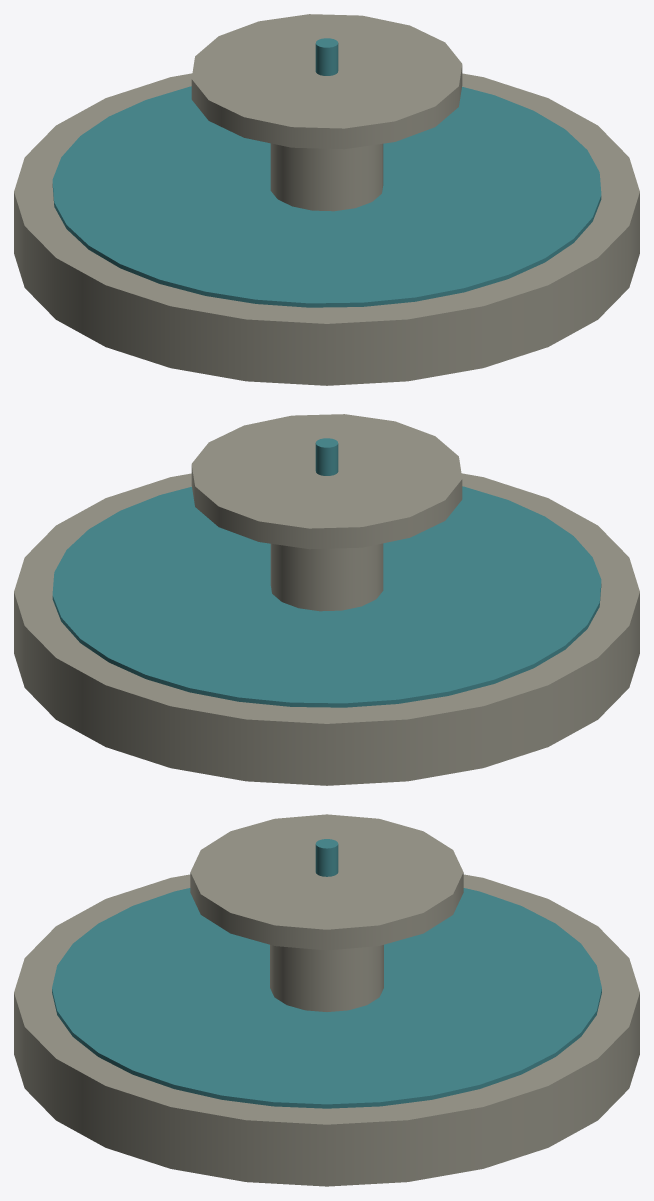
The model's file is courtyard-fountain.glb.
3 views of the same model, one above another, from view 1: azimuth 30°, elevation 25°; view 2: azimuth 150°, elevation 25°; view 3: azimuth 270°, elevation 25° (orthographic).
Visible parts, largest first — view 1: courtyard-fountain; view 2: courtyard-fountain; view 3: courtyard-fountain.
Part boxes in pixels (box(x1,y1,x2,y2)): courtyard-fountain: box(14, 14, 639, 385); courtyard-fountain: box(14, 414, 639, 785); courtyard-fountain: box(14, 814, 639, 1186).
Size of the model in its own units: 3.3 by 1.23 by 3.3.
